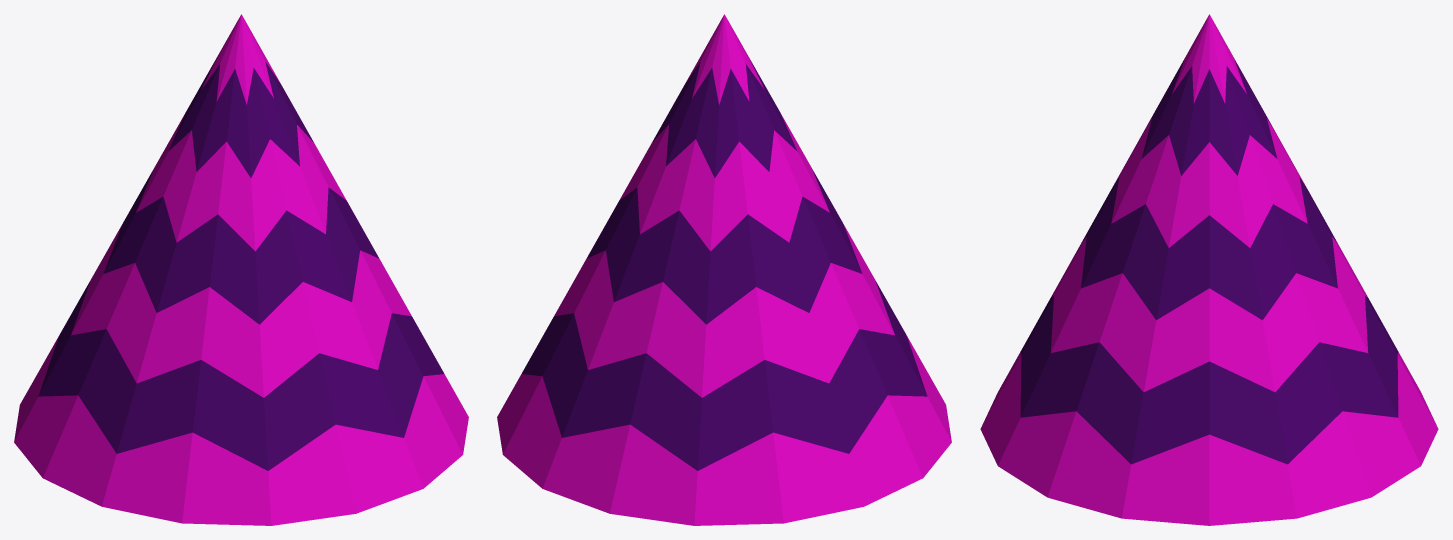
Rendered from Cone_ZigZag.fbx.
The picture shows the model from 3 angles, left to right: view 1: azimuth 30°, elevation 25°; view 2: azimuth 150°, elevation 25°; view 3: azimuth 270°, elevation 25°; orthographic projection.
Parts seen in each view (by area): view 1: Cone; view 2: Cone; view 3: Cone.
Part boxes in pixels (bbox=[...]): Cone: bbox=[14, 14, 468, 525]; Cone: bbox=[497, 14, 951, 525]; Cone: bbox=[980, 14, 1438, 525].
Bounding box in the file's own units: 20000 × 20000 × 20000.
